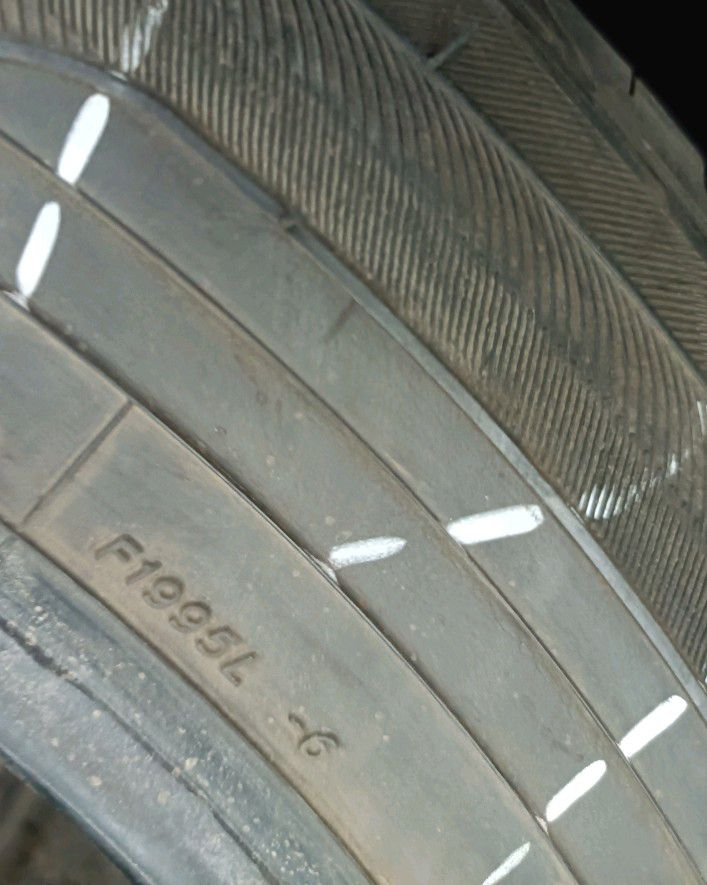CBU: (231, 200, 557, 468)
